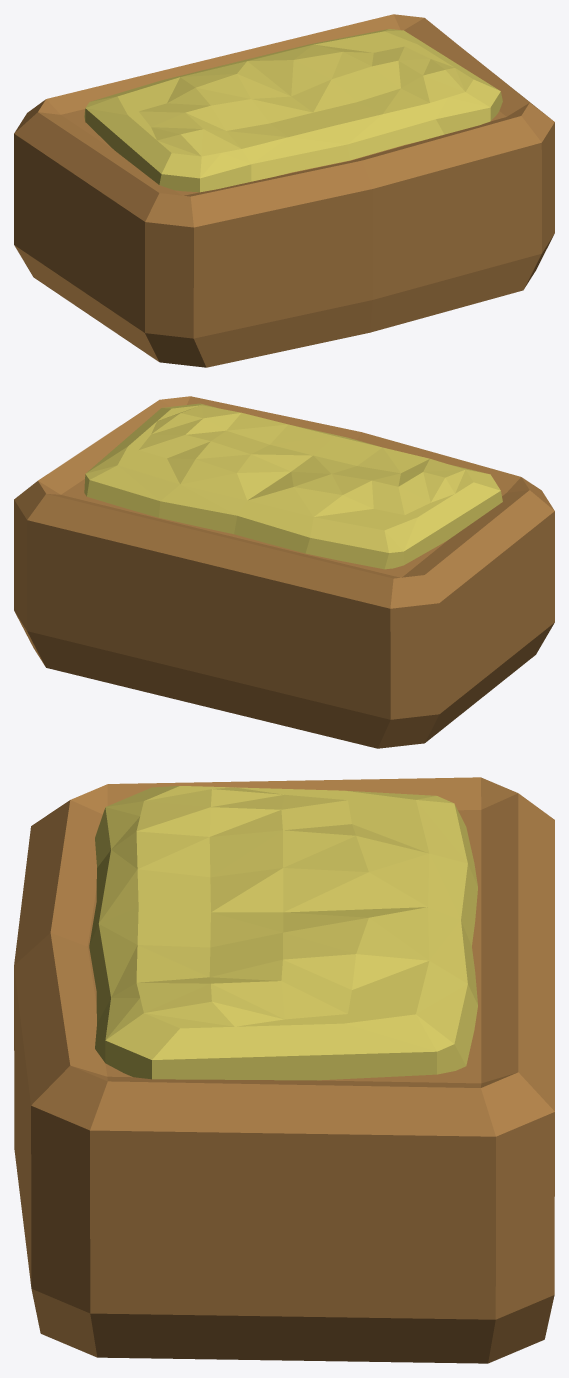
File: custard_danish.fbx
3 views of the same model, one above another, from view 1: azimuth 30°, elevation 25°; view 2: azimuth 150°, elevation 25°; view 3: azimuth 270°, elevation 25° (orthographic). The views are drawn at different scales.
Visible parts, largest first — view 1: custard_danish; view 2: custard_danish; view 3: custard_danish.
Boxes of the visible parts, bbox=[...] form: custard_danish: bbox=[14, 14, 554, 367]; custard_danish: bbox=[14, 396, 554, 748]; custard_danish: bbox=[14, 777, 554, 1363].
Bounding box in the file's own units: 12.57 × 5.34 × 8.41.
